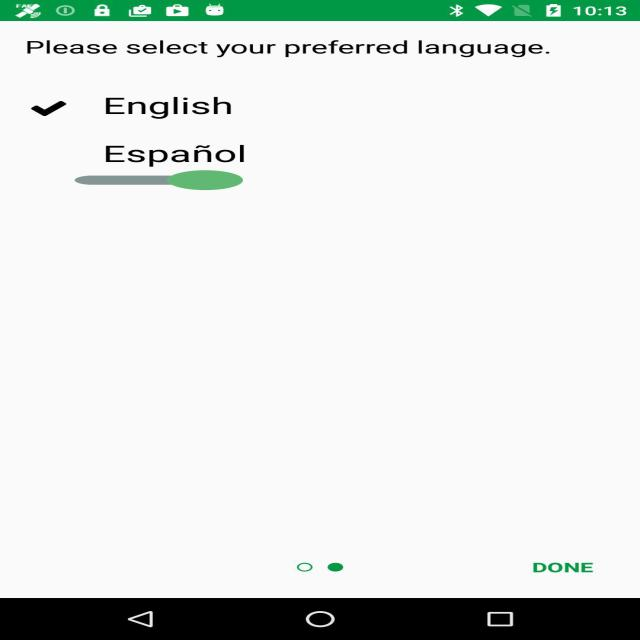social proof: (75, 158, 243, 202)
